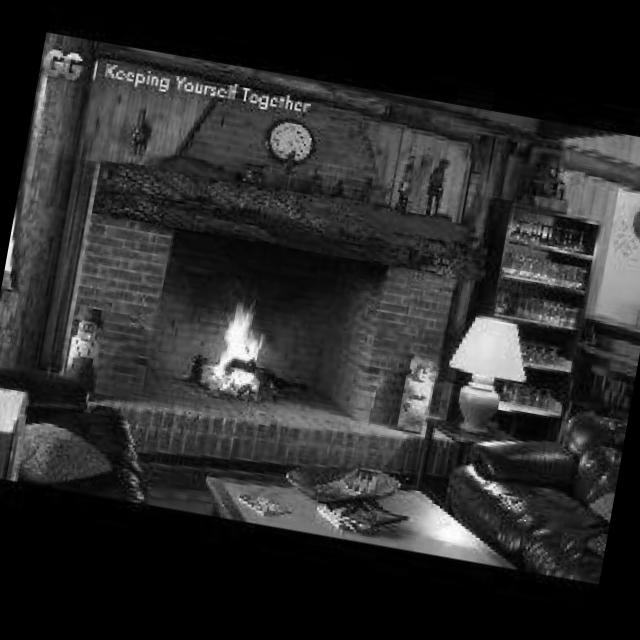fire: (203, 288, 278, 400)
